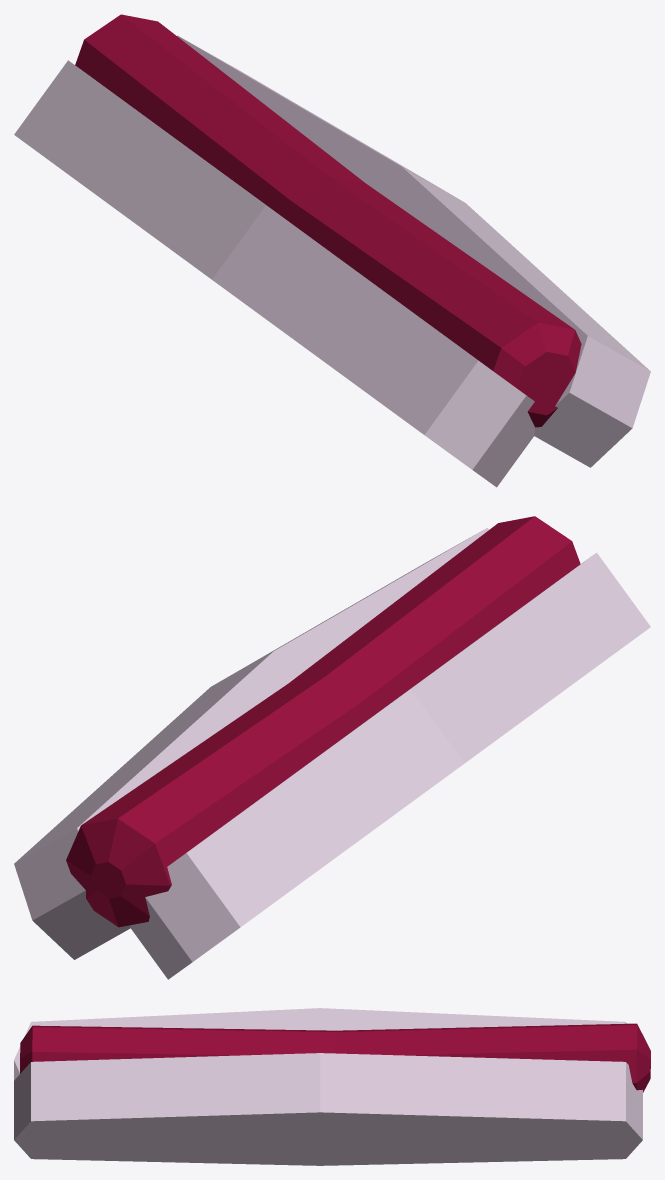
File: Hotdog.glb
The picture shows the model from 3 angles, top to bottom: view 1: azimuth 30°, elevation 25°; view 2: azimuth 150°, elevation 25°; view 3: azimuth 270°, elevation 25°; orthographic projection. The views are drawn at different scales.
Visible parts, largest first — view 1: Cylinder.002; view 2: Cylinder.002; view 3: Cylinder.002.
Part boxes in pixels (x1,y1,x2,y2): Cylinder.002: (14,14,650,487); Cylinder.002: (14,516,650,979); Cylinder.002: (14,1008,650,1165).
Size of the model in its own units: 3.64 by 2.39 by 10.91.
